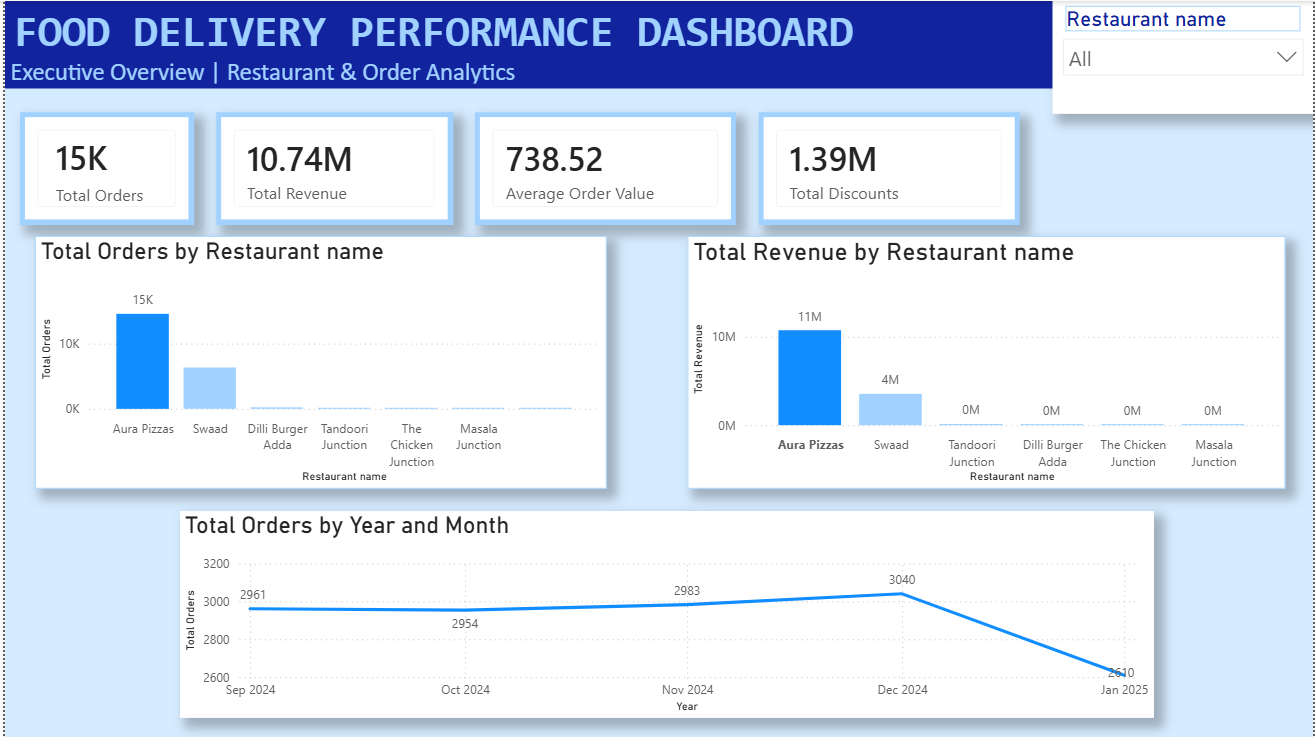

What the dashboard file says about the page in this screenshot:
{"tool":"powerbi","page":{"name":"EXECUTIVE OVERVIEW","canvas":[1280,720],"ordinal":0},"visuals":[{"type":"cardVisual","fields":{"Data":["order_history_kaggle_data.Total Orders"]},"box":[14.1,108.6,170.6,110.6],"z":0},{"type":"cardVisual","fields":{"Data":["order_history_kaggle_data.Total Revenue"]},"box":[206.7,108.6,231.8,110.6],"z":1000},{"type":"cardVisual","fields":{"Data":["order_history_kaggle_data.Average Order Value"]},"box":[460.4,108.6,255.3,110.6],"z":2000},{"type":"cardVisual","fields":{"Data":["order_history_kaggle_data.Total Discounts"]},"box":[737.6,108.6,255.3,110.6],"z":3000},{"type":"columnChart","fields":{"Category":["order_history_kaggle_data.Restaurant name"],"Y":["order_history_kaggle_data.Total Revenue"]},"box":[667.1,229.4,584.7,247.1],"z":4000},{"type":"lineChart","fields":{"Category":["order_history_kaggle_data.Order Placed At.Variation.Date Hierarchy.Year","order_history_kaggle_data.Order Placed At.Variation.Date Hierarchy.Month"],"Y":["order_history_kaggle_data.Total Orders"]},"box":[171.8,498.8,952.9,202.4],"z":5000},{"type":"clusteredColumnChart","fields":{"Category":["order_history_kaggle_data.Restaurant name"],"Y":["order_history_kaggle_data.Total Orders"]},"box":[29.4,229.4,558.8,247.1],"z":7000},{"type":"textbox","box":[0,0,1280,85.9],"z":8000},{"type":"slicer","fields":{"Values":["order_history_kaggle_data.Restaurant name"]},"box":[1024.7,0,255.3,110.6],"z":8500}]}

Visuals, with their boxes in screenshot pixels (x1, y1, x2, y2), scaled from the page's 1280x720 canvas onto the 1315x737 screenshot:
cardVisual - order_history_kaggle_data.Total Orders: x1=14, y1=111, x2=190, y2=224
cardVisual - order_history_kaggle_data.Total Revenue: x1=212, y1=111, x2=450, y2=224
cardVisual - order_history_kaggle_data.Average Order Value: x1=473, y1=111, x2=735, y2=224
cardVisual - order_history_kaggle_data.Total Discounts: x1=758, y1=111, x2=1020, y2=224
columnChart - order_history_kaggle_data.Restaurant name x order_history_kaggle_data.Total Revenue: x1=685, y1=235, x2=1286, y2=488
lineChart - order_history_kaggle_data.Order Placed At.Variation.Date Hierarchy.Year x order_history_kaggle_data.Order Placed At.Variation.Date Hierarchy.Month: x1=176, y1=511, x2=1155, y2=718
clusteredColumnChart - order_history_kaggle_data.Restaurant name x order_history_kaggle_data.Total Orders: x1=30, y1=235, x2=604, y2=488
textbox: x1=0, y1=0, x2=1314, y2=88
slicer - order_history_kaggle_data.Restaurant name: x1=1053, y1=0, x2=1314, y2=113
